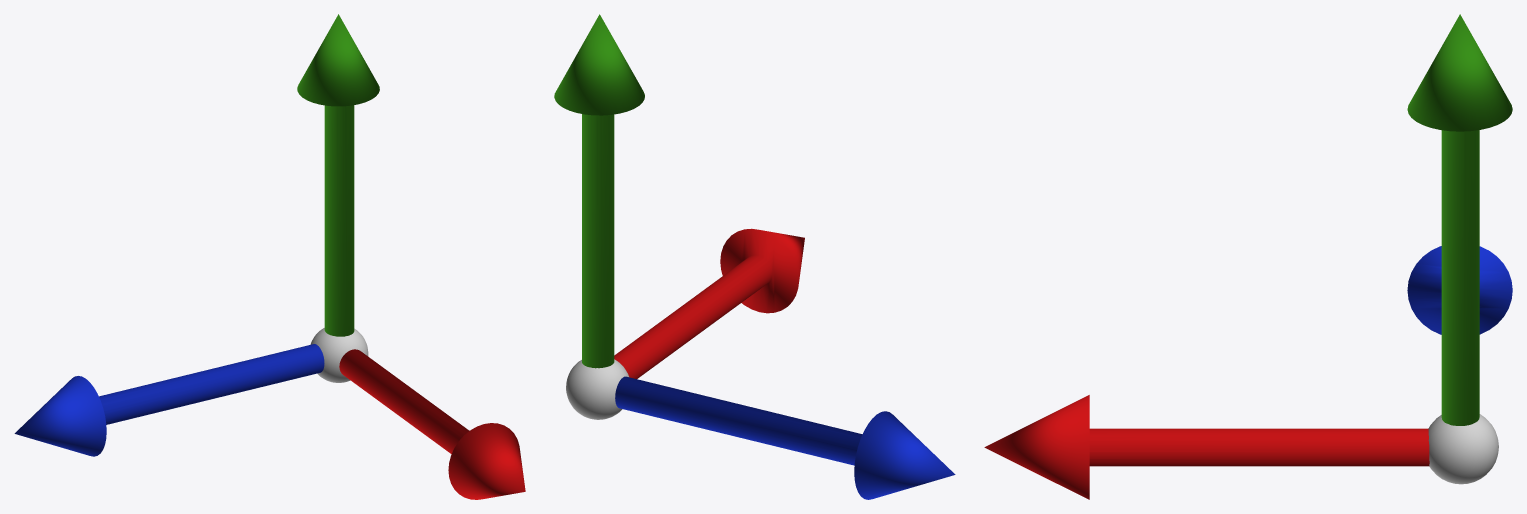
The model's file is viewpoint.fbx.
The picture shows the model from 3 angles, left to right: view 1: azimuth 30°, elevation 25°; view 2: azimuth 150°, elevation 25°; view 3: azimuth 270°, elevation 25°; orthographic projection. The views are drawn at different scales.
Parts seen in each view (by area): view 1: AX_Y, AX_Z, AX_X, Viewpoint; view 2: AX_Y, AX_Z, AX_X, Viewpoint; view 3: AX_X, AX_Y, AX_Z, Viewpoint.
Part boxes in pixels (x1,y1,x2,y2): AX_Y: (297,14,379,336); AX_Z: (14,344,324,456); AX_X: (339,349,525,499); Viewpoint: (310,328,368,382); AX_Y: (554,14,644,368); AX_Z: (615,376,955,499); AX_X: (614,228,804,378); Viewpoint: (566,359,628,419); AX_X: (984,395,1429,499); AX_Y: (1407,14,1512,425); AX_Z: (1407,246,1512,334); Viewpoint: (1428,414,1498,484).
Bounding box in the file's own units: 14.02 × 14.02 × 14.08.
